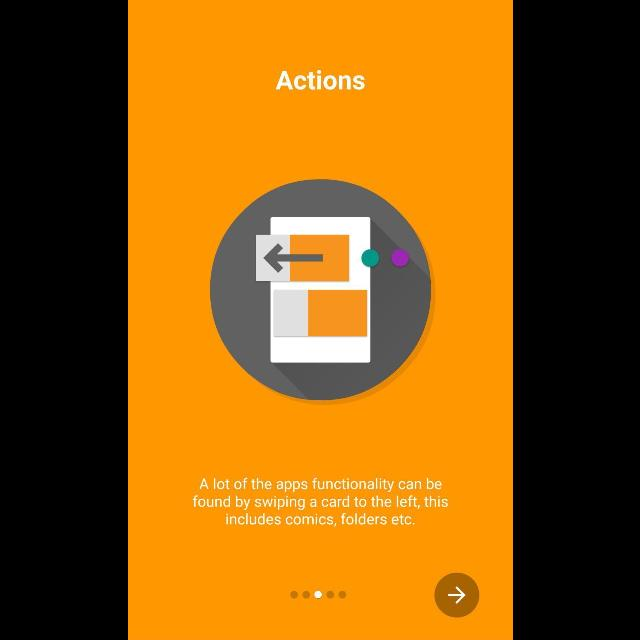button: (434, 572, 478, 618)
image: (210, 180, 430, 400)
pageindicator: (290, 590, 346, 600)
text: (192, 478, 448, 526), (276, 70, 364, 90)
